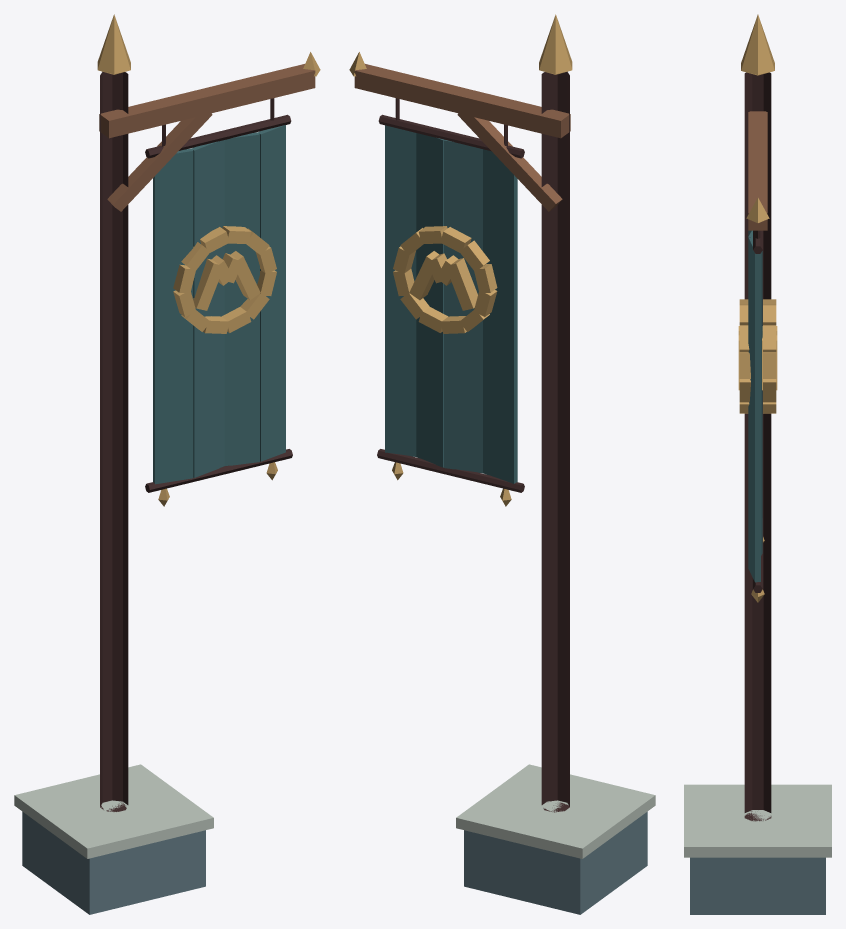
File: sect_banner.glb
3 renders of one model, left to right at view 1: azimuth 30°, elevation 25°; view 2: azimuth 150°, elevation 25°; view 3: azimuth 270°, elevation 25°, orthographic.
Parts seen in each view (by area): view 1: SectBanner / Fabric, SectBanner / Timber, SectBanner / Stone, SectBanner / Coping, SectBanner / Bronze, SectBanner / Cedar; view 2: SectBanner / Fabric, SectBanner / Timber, SectBanner / Stone, SectBanner / Coping, SectBanner / Bronze, SectBanner / Cedar; view 3: SectBanner / Timber, SectBanner / Coping, SectBanner / Stone, SectBanner / Fabric, SectBanner / Bronze, SectBanner / Cedar.
Part boxes in pixels (x1,y1,x2,y2): SectBanner / Fabric: (153, 125, 285, 484); SectBanner / Timber: (100, 71, 292, 811); SectBanner / Stone: (22, 811, 205, 914); SectBanner / Coping: (14, 764, 213, 858); SectBanner / Bronze: (97, 14, 320, 506); SectBanner / Cedar: (99, 64, 315, 211); SectBanner / Fabric: (385, 125, 517, 483); SectBanner / Timber: (377, 71, 569, 812); SectBanner / Stone: (464, 811, 647, 914); SectBanner / Coping: (456, 764, 655, 858); SectBanner / Bronze: (349, 14, 572, 506); SectBanner / Cedar: (354, 64, 570, 211); SectBanner / Timber: (744, 72, 771, 821); SectBanner / Coping: (684, 784, 831, 857); SectBanner / Stone: (690, 857, 825, 914); SectBanner / Fabric: (748, 230, 762, 582); SectBanner / Bronze: (738, 14, 777, 602); SectBanner / Cedar: (748, 111, 767, 230).
Size of the model in its own units: 1.62 by 4.95 by 0.76.
